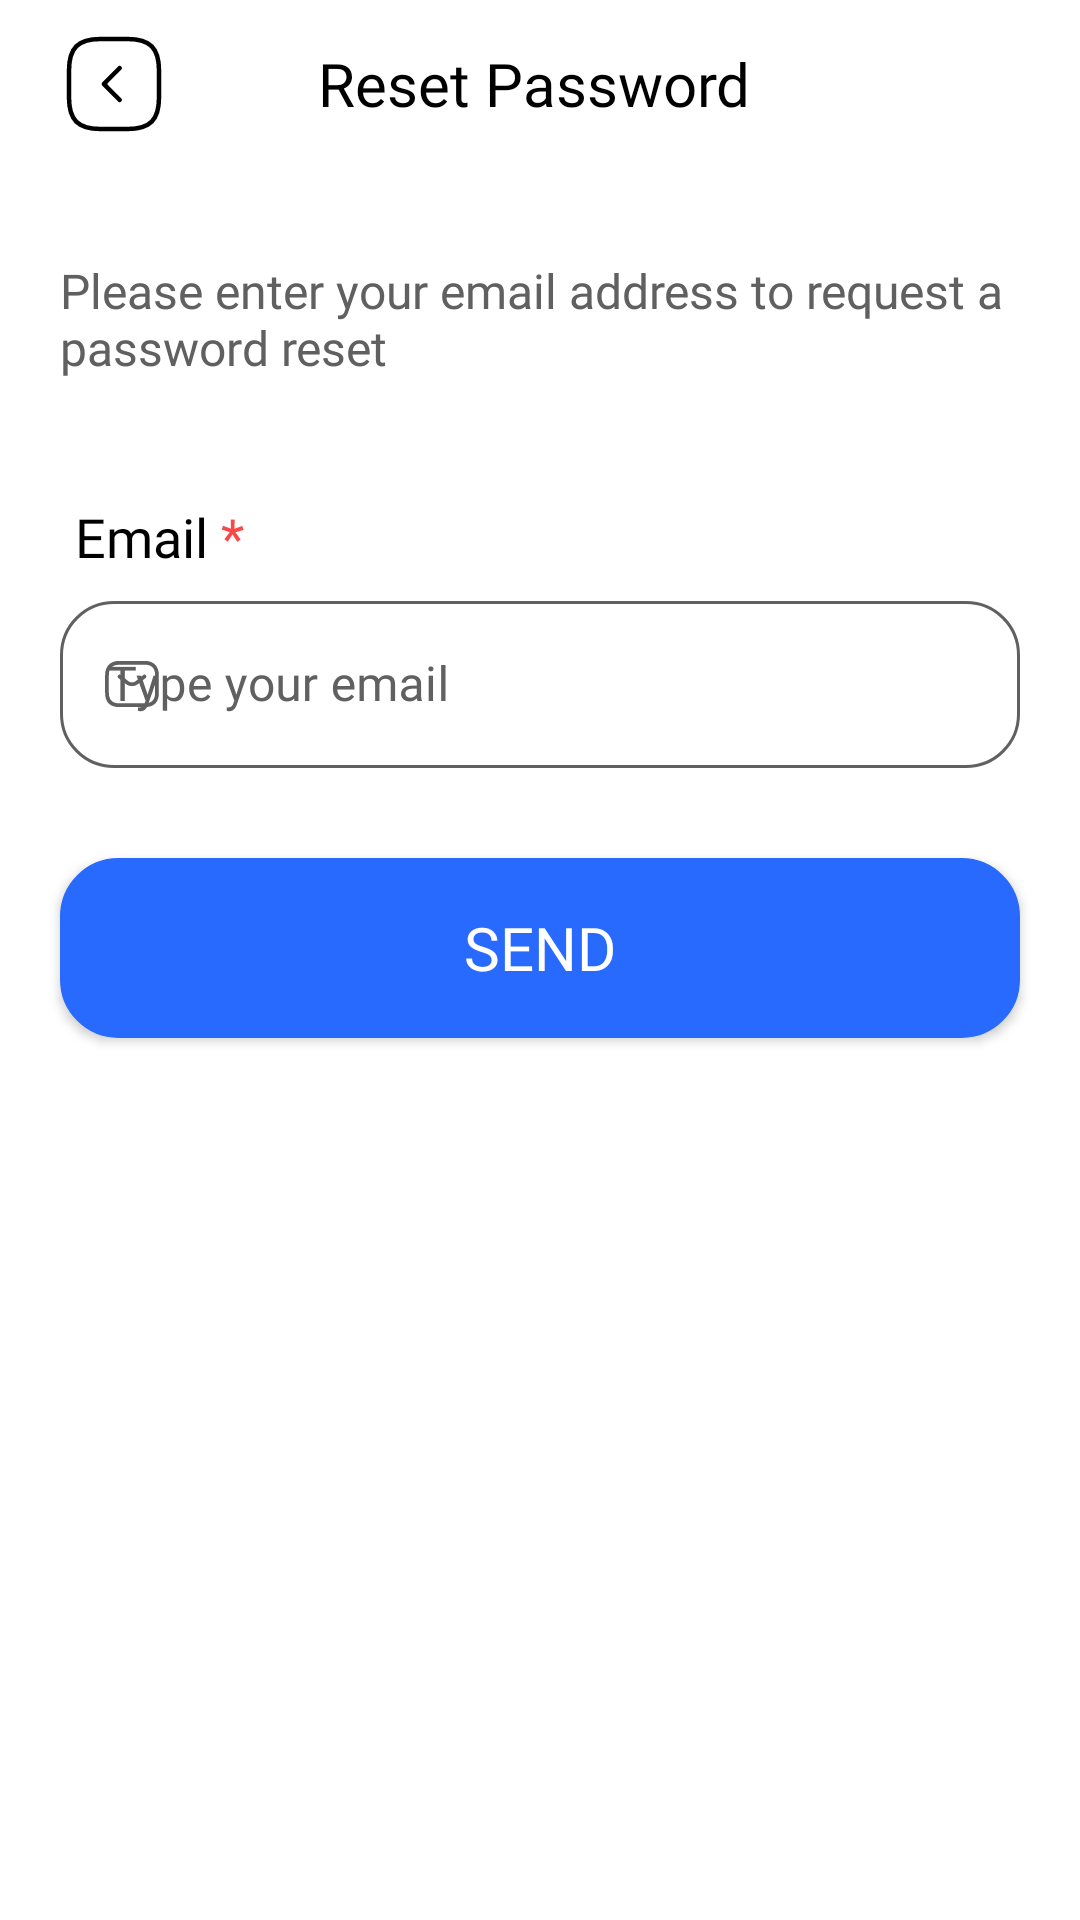

Point at icon controls on the screen. Image size 1080 × 1920, points as point (x, y).
left arrow: point (114, 84)
